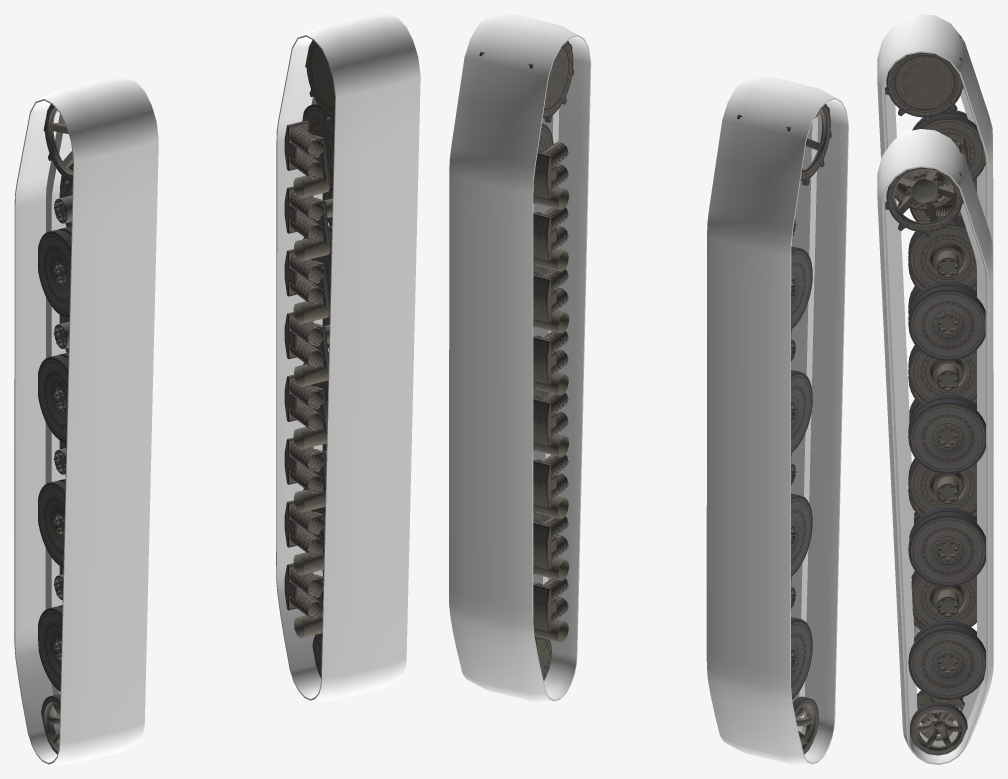
Rendered from Chassis.glb.
3 views of the same model, side by side, from view 1: azimuth 30°, elevation 25°; view 2: azimuth 150°, elevation 25°; view 3: azimuth 270°, elevation 25° (orthographic). The views are drawn at different scales.
Parts seen in each view (by area): view 1: set_1_group_0, set_0_group_0, set_2_group_0, set_3_group_0; view 2: set_1_group_0, set_0_group_0, set_2_group_0, set_3_group_0; view 3: set_2_group_0, set_0_group_0, set_1_group_0, set_3_group_0.
Part boxes in pixels (x1,y1,x2,y2): set_1_group_0: (14,78,158,764); set_0_group_0: (276,14,420,700); set_2_group_0: (284,40,334,677); set_3_group_0: (38,104,73,754); set_1_group_0: (706,77,848,764); set_0_group_0: (449,14,591,701); set_2_group_0: (479,41,573,680); set_3_group_0: (737,103,831,754); set_2_group_0: (885,150,985,755); set_0_group_0: (877,129,993,764); set_1_group_0: (877,14,993,636); set_3_group_0: (885,35,985,630).
Size of the model in its own units: 4.09 by 7.62 by 1.33.
4 materials, 2 textured.
